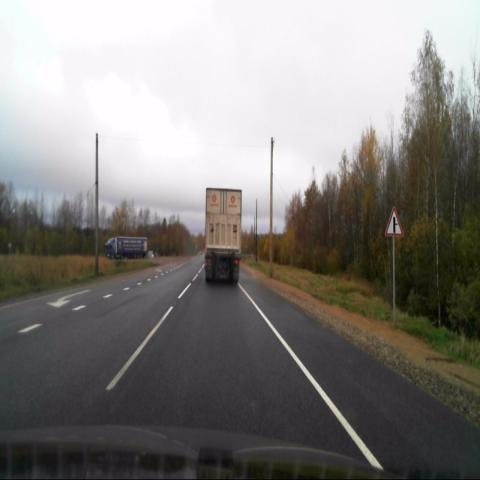2_3_2: (384, 206, 404, 238)
